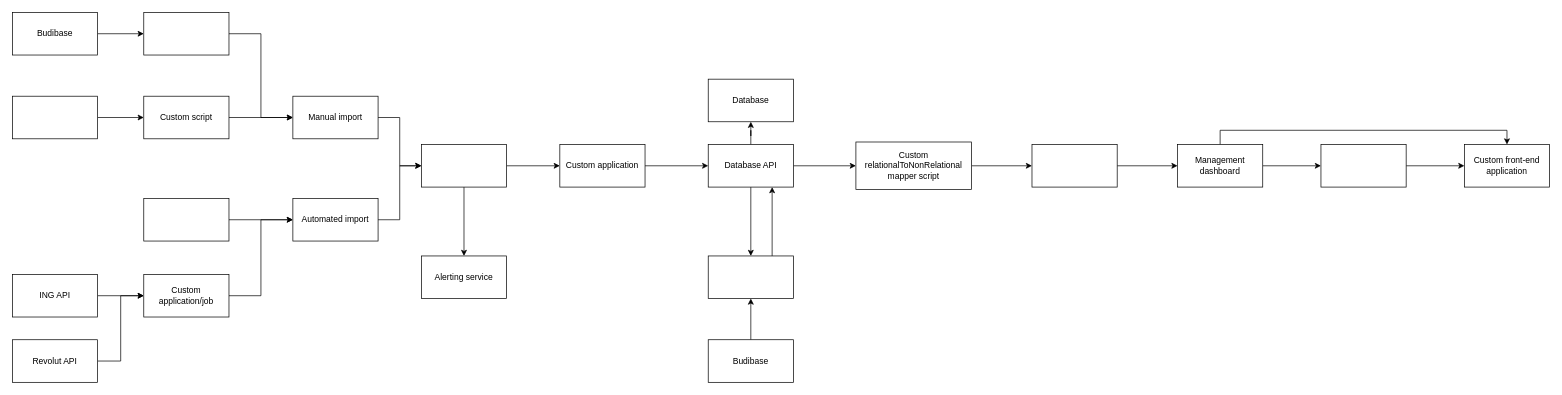
Some shapes in this 1562 by 395 pixel diagram are drawn without their labels. Here are the shapes that lost their labels. From the top down, the centre of each, then its label:
(x=186, y=33): Application based form/page
(x=55, y=117): ING CSV Export file
(x=464, y=165): Message qeue/service bus
(x=1074, y=165): Elasticsearch
(x=1363, y=165): Kibana
(x=186, y=219): Nordigen
(x=750, y=277): Application for editing transaction metadata
